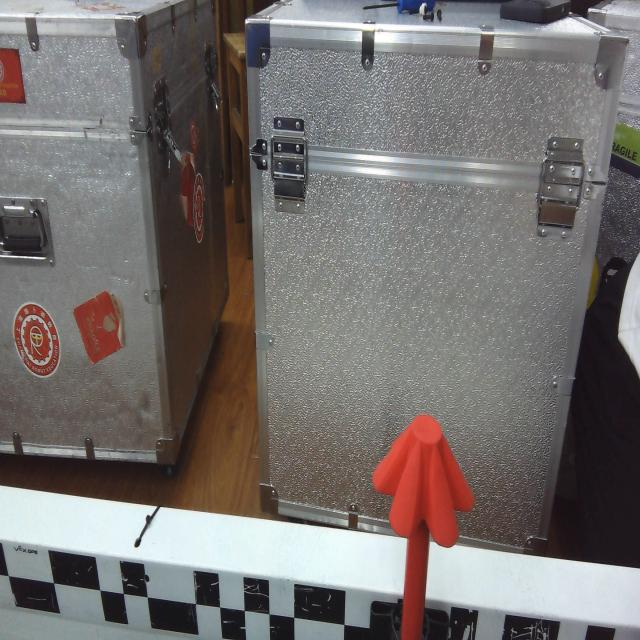zred-Stake-Head: (373, 414, 474, 548)
